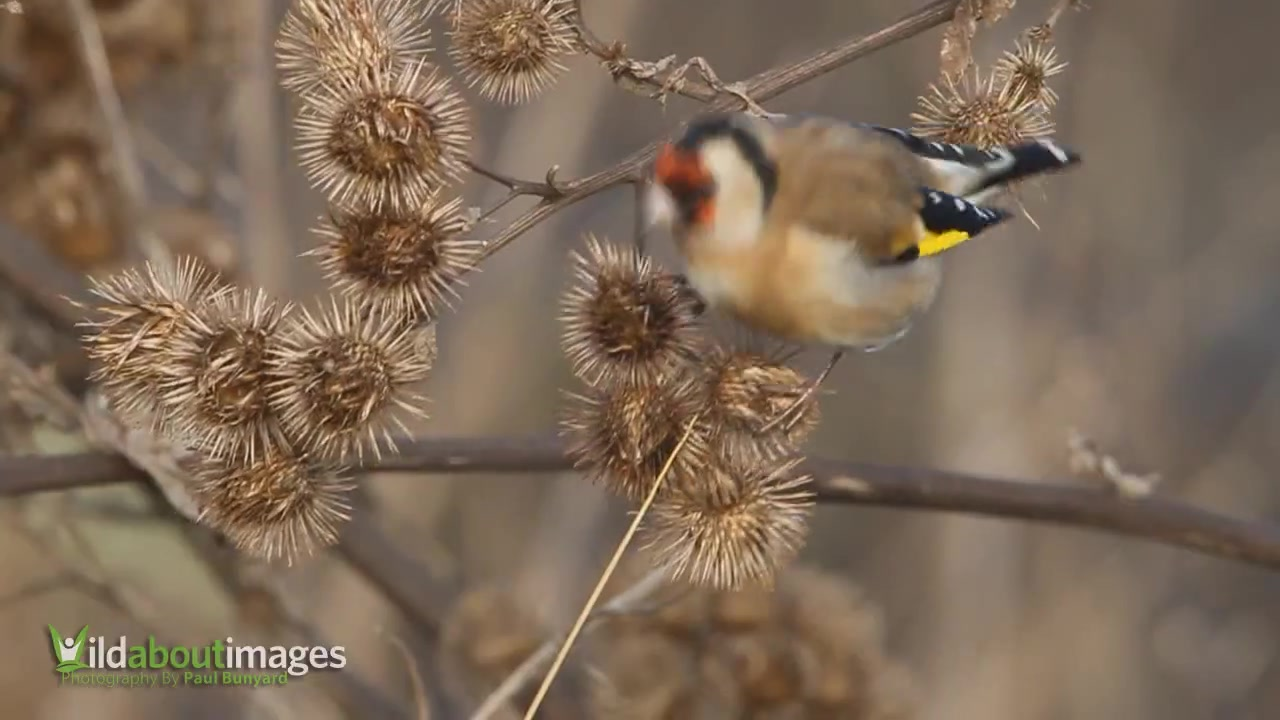bird: (641, 117, 1087, 434)
